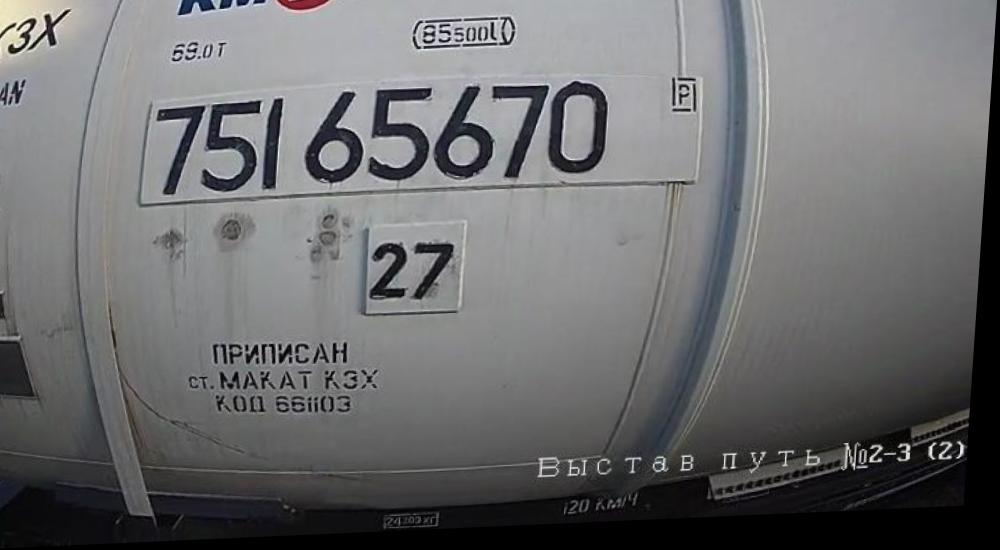Wagon-number: (150, 80, 627, 204)
